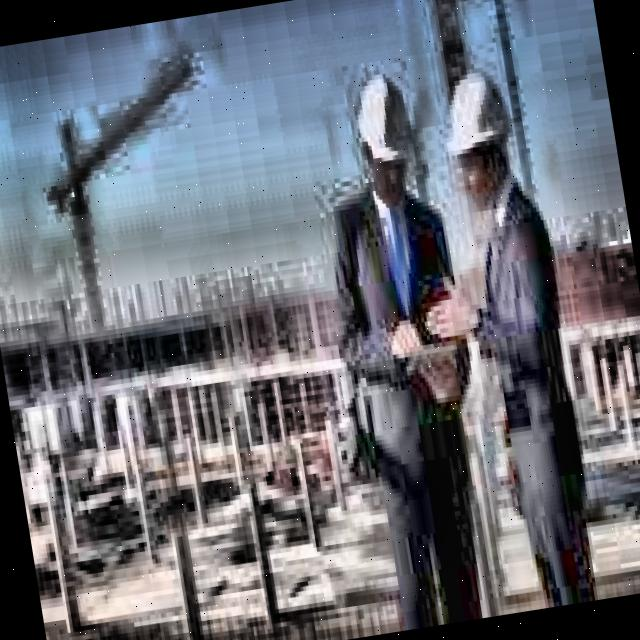helmet: (428, 65, 521, 212), (342, 61, 428, 216)
